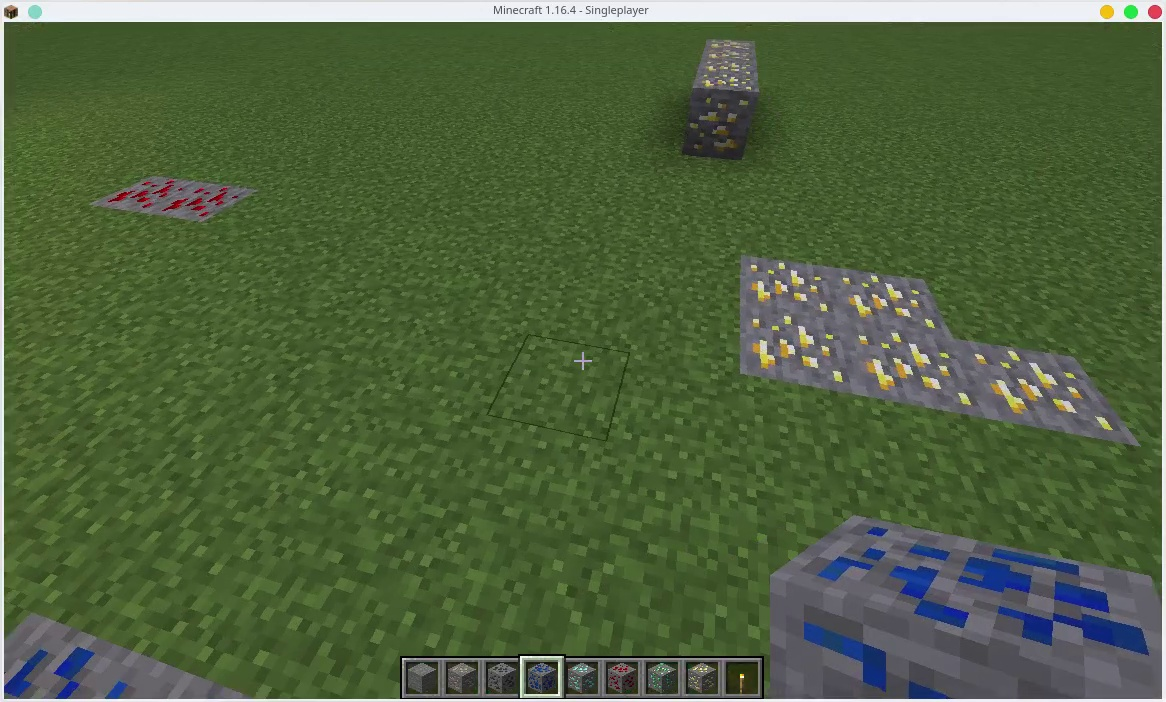gold: (976, 337, 1126, 441), (857, 330, 968, 416), (740, 317, 842, 401), (840, 259, 938, 329), (685, 74, 757, 166), (746, 251, 835, 322), (689, 665, 718, 694), (699, 61, 748, 74), (706, 37, 753, 49), (706, 50, 753, 59)
